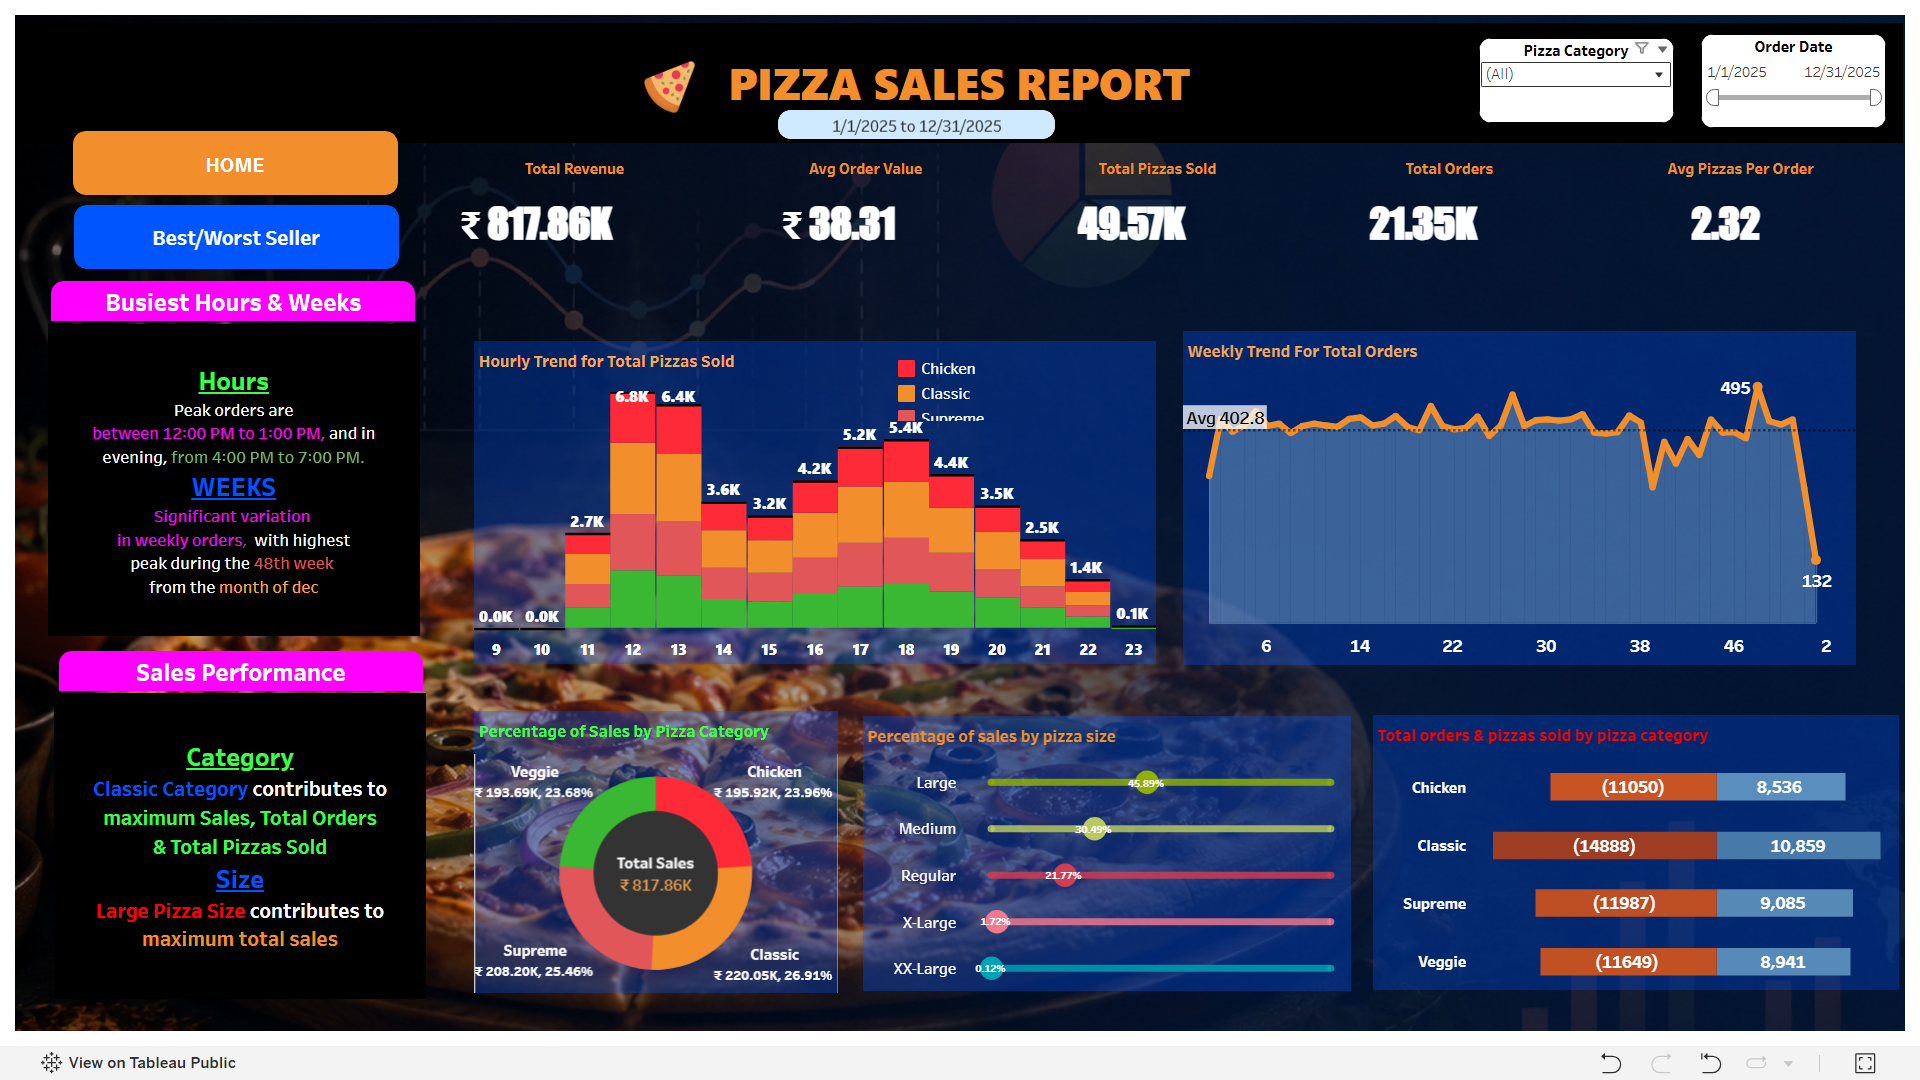

The page's visual inventory and layout, read from the dashboard file:
{"tool":"tableau","page":{"name":"Home","canvas":[1000,1000],"units":"permille","ordinal":1},"visuals":[{"type":"image","param":"C:/Users/USER/Downloads/ChatGPT Image Aug 15, 2026, 11_23_33 AM.png","box":[4.8,9.4,990.3,981.2]},{"type":"text","box":[8.4,21.2,982.5,115.2]},{"type":"filter","title":"Hourly Trend for Total Pizzas Sold","param":"[federated.1lx9tgo19k41uo19w6wfd1uyf0b8].[none:order_date:qk]","box":[885.9,31.7,96.6,90.5]},{"type":"filter","title":"Hourly Trend for Total Pizzas Sold","param":"[federated.1lx9tgo19k41uo19w6wfd1uyf0b8].[none:pizza_category:nk]","box":[770.1,35.2,101.4,82.3]},{"type":"image","param":"C:/Users/USER/Downloads/Pizza Sales Images/pizza-slice.png","box":[334.9,57.6,33.2,51.7]},{"type":"worksheet","title":"Date Range","mark":"Automatic","box":[404.9,104.6,144.2,28.2]},{"type":"dashboard-object","box":[38,125.7,169,61.1]},{"type":"worksheet","title":"KPI Banner","mark":"Automatic","box":[223.3,148.1,759.2,110.5]},{"type":"dashboard-object","box":[38.6,196.2,169,61.1]},{"type":"text","box":[26.6,269.1,189.5,37.6]},{"type":"text","box":[24.7,309.1,194.3,299.7]},{"type":"worksheet","title":"Weekly Trend For Total Orders","mark":"Area","rows":["Calculation_0489316859793409","Calculation_0489316859793409"],"cols":["order_date"],"box":[615.6,316.1,351.2,319.6]},{"type":"worksheet","title":"Hourly Trend for Total Pizzas Sold","mark":"Bar","rows":["Calculation_0489316860510211","Calculation_0489316860510211"],"cols":["order_time"],"box":[246.8,326.7,355.5,307.9]},{"type":"legend","title":"Hourly Trend for Total Pizzas Sold","param":"[federated.1lx9tgo19k41uo19w6wfd1uyf0b8].[none:pizza_category:nk]","box":[465.3,340.8,147.9,62.3]},{"type":"text","box":[30.8,622.8,189.5,37.6]},{"type":"text","box":[27.8,661.6,194.3,292.6]},{"type":"worksheet","title":"Percentage of Sales by Pizza Category","mark":"Pie","rows":["Calculation_1190805525061637","Calculation_1190805525102599"],"box":[247,680.4,189.5,267.9]},{"type":"worksheet","title":"Total orders & pizzas sold by pizza category","mark":"Automatic","rows":["pizza_category"],"box":[715.1,683.9,274,262]},{"type":"worksheet","title":"Percentage of sales by pizza size","mark":"Line","rows":["pizza_size"],"box":[449,685.1,254.7,262]}]}

Visuals, with their boxes on the dashboard's canvas, which has no fixed pixel size, in thousandths of its width and height (x1, y1, x2, y2). These are canvas units, not pixel positions in the 1920x1080 screenshot, which may show the page scaled, cropped or inside an application window:
image: [5, 9, 995, 991]
text: [8, 21, 991, 136]
"Hourly Trend for Total Pizzas Sold" filter: [886, 32, 982, 122]
"Hourly Trend for Total Pizzas Sold" filter: [770, 35, 872, 118]
image: [335, 58, 368, 109]
"Date Range" worksheet: [405, 105, 549, 133]
dashboard-object: [38, 126, 207, 187]
"KPI Banner" worksheet: [223, 148, 982, 259]
dashboard-object: [39, 196, 208, 257]
text: [27, 269, 216, 307]
text: [25, 309, 219, 609]
"Weekly Trend For Total Orders" worksheet (Area marks): [616, 316, 967, 636]
"Hourly Trend for Total Pizzas Sold" worksheet (Bar marks): [247, 327, 602, 635]
"Hourly Trend for Total Pizzas Sold" legend: [465, 341, 613, 403]
text: [31, 623, 220, 660]
text: [28, 662, 222, 954]
"Percentage of Sales by Pizza Category" worksheet (Pie marks): [247, 680, 436, 948]
"Total orders & pizzas sold by pizza category" worksheet: [715, 684, 989, 946]
"Percentage of sales by pizza size" worksheet (Line marks): [449, 685, 704, 947]
